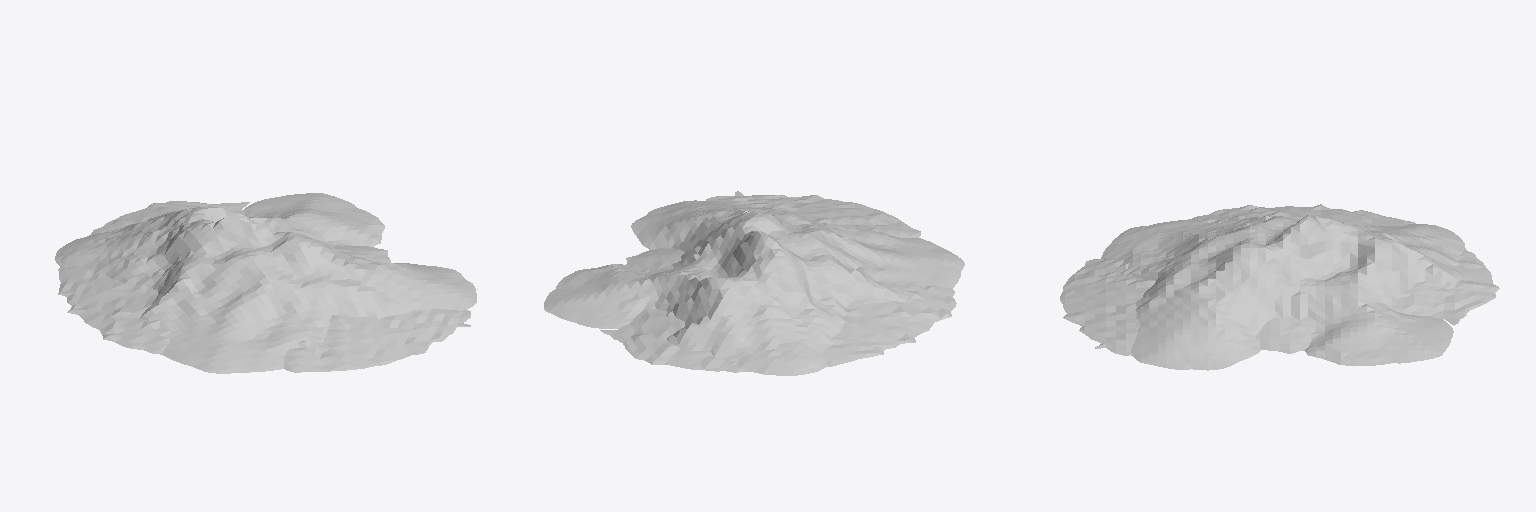
Rendered from terrain.obj.
3 views of the same model, side by side, from view 1: azimuth 30°, elevation 25°; view 2: azimuth 150°, elevation 25°; view 3: azimuth 270°, elevation 25° (orthographic).
Visible parts, largest first — view 1: terrain1:Terrain_1; view 2: terrain1:Terrain_1; view 3: terrain1:Terrain_1.
Boxes of the visible parts, box(x1,y1,x2,y2) form: terrain1:Terrain_1: box(55, 193, 477, 373); terrain1:Terrain_1: box(544, 191, 964, 375); terrain1:Terrain_1: box(1060, 204, 1499, 370).
Size of the model in its own units: 410 by 76.61 by 463.